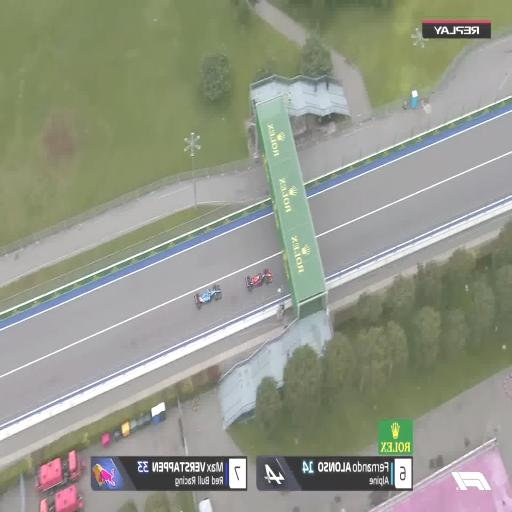f1_car: (195, 284, 222, 308), (246, 268, 273, 290)
